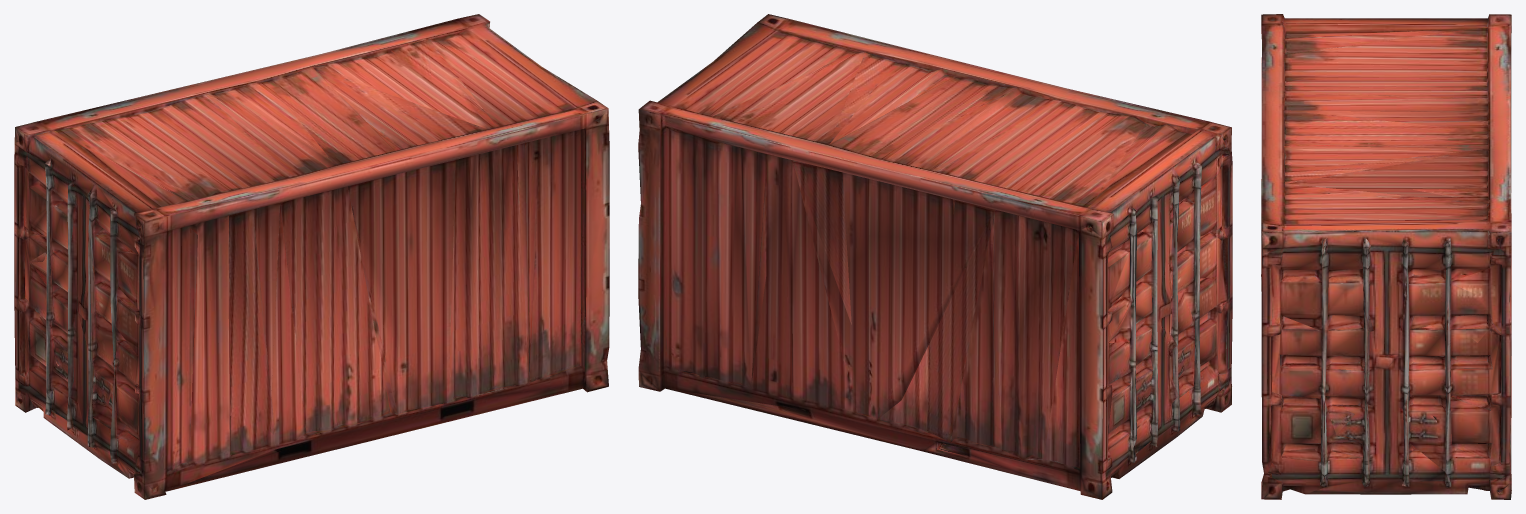
File: container_red.glb
The picture shows the model from 3 angles, left to right: view 1: azimuth 30°, elevation 25°; view 2: azimuth 150°, elevation 25°; view 3: azimuth 270°, elevation 25°; orthographic projection. The views are drawn at different scales.
Visible parts, largest first — view 1: Mesh_0; view 2: Mesh_0; view 3: Mesh_0.
Boxes of the visible parts, left/top/right/bottom form: Mesh_0: left=14, top=14, right=609, bottom=499; Mesh_0: left=638, top=14, right=1232, bottom=499; Mesh_0: left=1261, top=14, right=1511, bottom=499.
Size of the model in its own units: 1.9 by 1.08 by 0.9156.
Materials: 1 (1 with a texture image).
